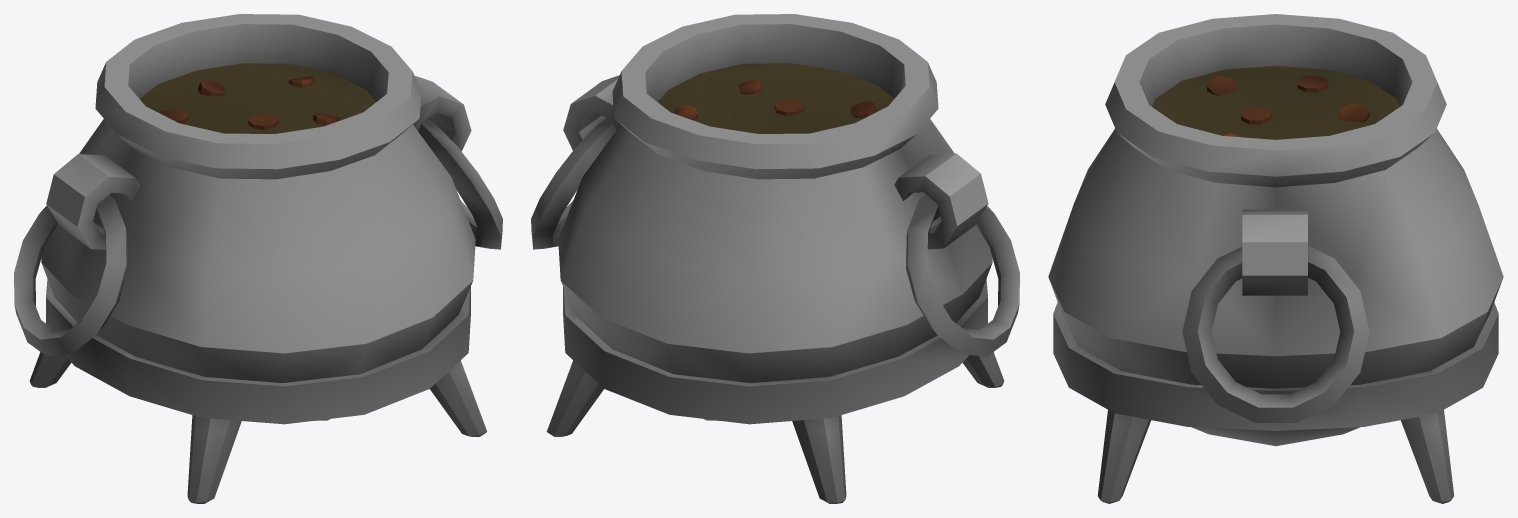
File: pq_chaudron_pieds.glb
3 renders of one model, left to right at view 1: azimuth 30°, elevation 25°; view 2: azimuth 150°, elevation 25°; view 3: azimuth 270°, elevation 25°, orthographic. The views are drawn at different scales.
Visible parts, largest first — view 1: Cauldron; view 2: Cauldron; view 3: Cauldron.
Part boxes in pixels (x1=…): Cauldron: x1=14, y1=14, x2=502, y2=503; Cauldron: x1=531, y1=14, x2=1019, y2=503; Cauldron: x1=1048, y1=14, x2=1503, y2=503.
Size of the model in its own units: 0.931 by 0.65 by 0.7714.
